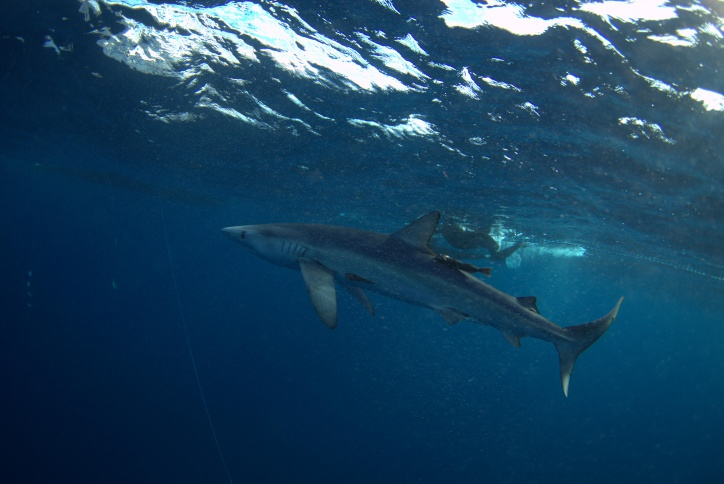Azul: (217, 202, 630, 409)
